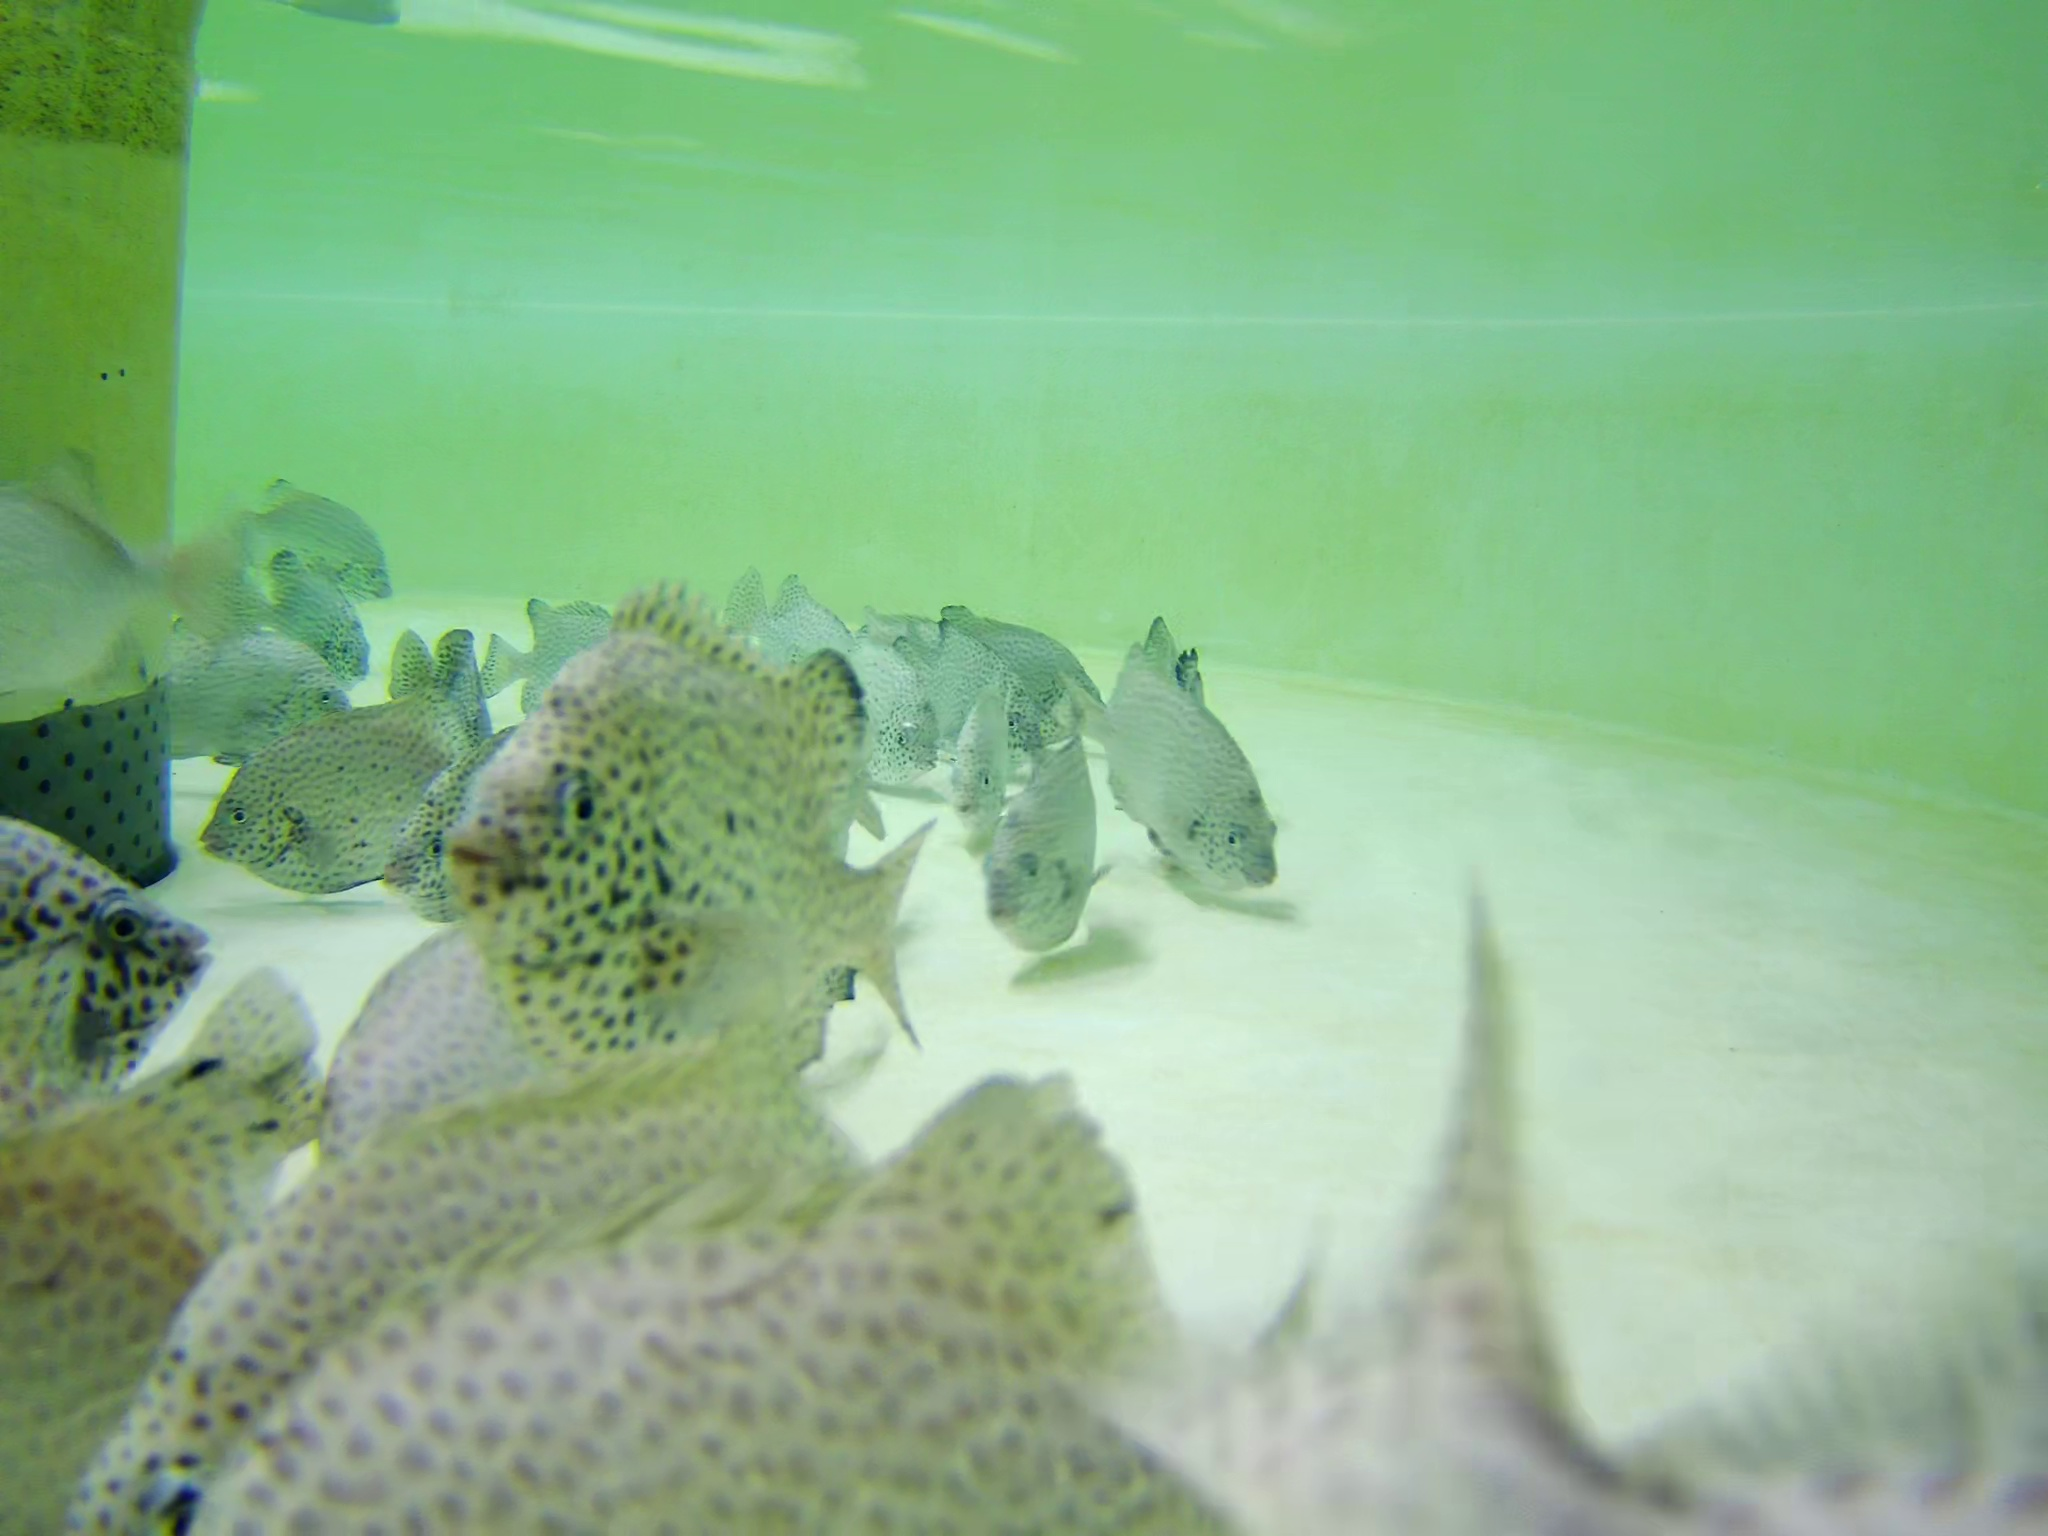fish: (260, 1087, 2017, 1536), (110, 1083, 1158, 1536), (432, 611, 943, 1055), (2, 950, 356, 1536), (319, 929, 884, 1181), (184, 629, 456, 870), (1074, 634, 1305, 907), (2, 826, 206, 1133), (2, 449, 190, 718), (776, 616, 945, 774), (148, 624, 356, 749), (942, 600, 1103, 742), (226, 465, 406, 591), (198, 552, 384, 673), (466, 589, 631, 721), (948, 662, 1022, 842)
